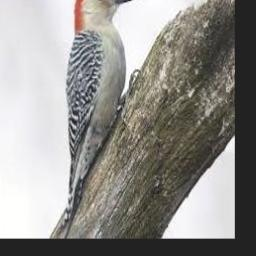Woodpecker: (52, 0, 137, 238)
